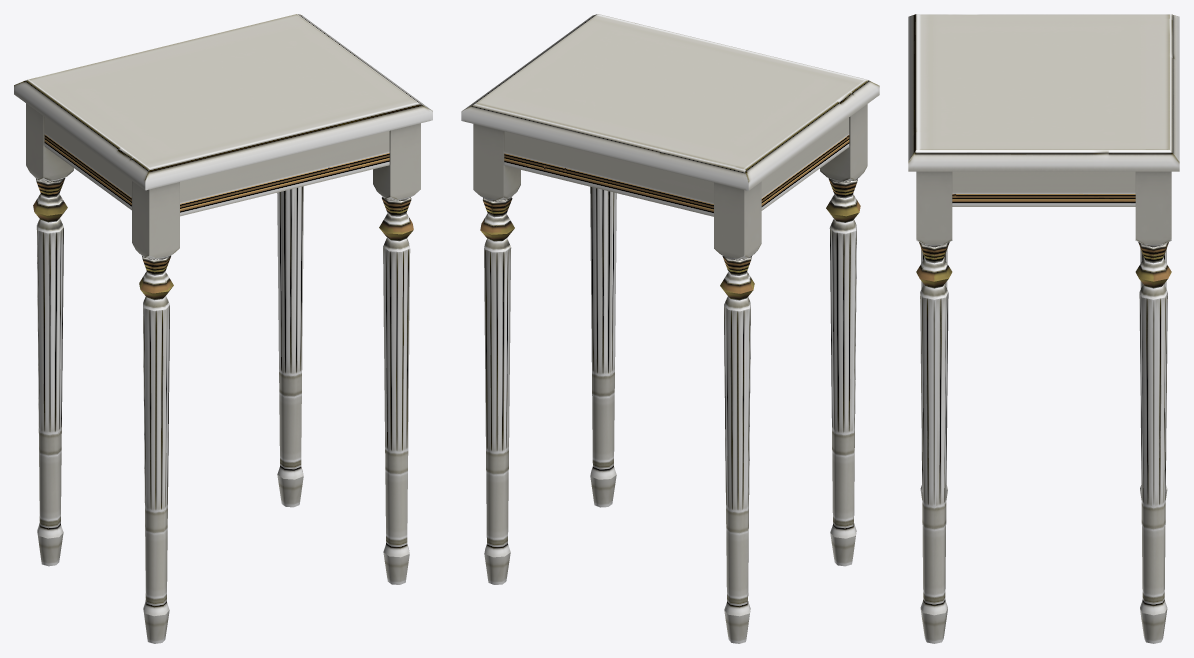
The model's file is Chair05B.FBX.
3 views of the same model, side by side, from view 1: azimuth 30°, elevation 25°; view 2: azimuth 150°, elevation 25°; view 3: azimuth 270°, elevation 25° (orthographic). The views are drawn at different scales.
Visible parts, largest first — view 1: Chair05B; view 2: Chair05B; view 3: Chair05B.
Part boxes in pixels (x1=…): Chair05B: x1=14, y1=14, x2=432, y2=643; Chair05B: x1=461, y1=14, x2=879, y2=643; Chair05B: x1=908, y1=14, x2=1179, y2=643.
Size of the model in its own units: 46.58 by 36.8 by 74.39.
